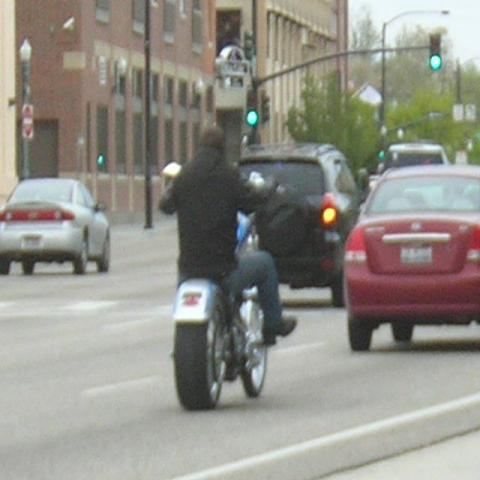car: (343, 165, 479, 351), (230, 144, 362, 313), (0, 179, 110, 275), (369, 142, 453, 193)
motorcycle: (171, 277, 271, 413)
